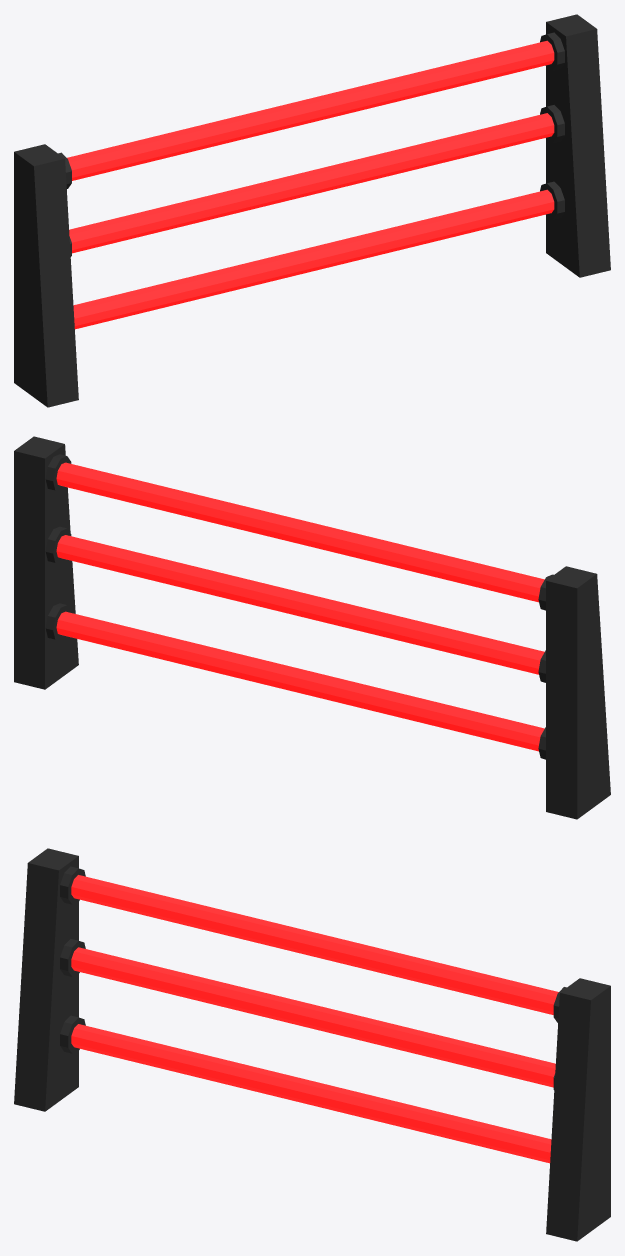
The model's file is LazerFence2.fbx.
3 views of the same model, one above another, from view 1: azimuth 30°, elevation 25°; view 2: azimuth 150°, elevation 25°; view 3: azimuth 330°, elevation 25° (orthographic).
Parts seen in each view (by area): view 1: Cube.004, Cube.003, Cylinder, Cylinder.006, Cylinder.001; view 2: Cube.004, Cylinder.006, Cylinder, Cylinder.001, Cube.003; view 3: Cube.003, Cube.004, Cylinder, Cylinder.006, Cylinder.001, Cylinder.004, Cylinder.005, Cylinder.008.
Part boxes in pixels (left/top/right/bottom): Cube.004: left=14, top=144, right=78, bottom=407; Cube.003: left=546, top=14, right=610, bottom=277; Cylinder: left=67, top=40, right=554, bottom=180; Cylinder.006: left=69, top=113, right=554, bottom=253; Cylinder.001: left=73, top=189, right=554, bottom=329; Cube.004: left=546, top=566, right=610, bottom=819; Cylinder.006: left=56, top=535, right=544, bottom=674; Cylinder: left=56, top=462, right=544, bottom=602; Cylinder.001: left=56, top=611, right=544, bottom=751; Cube.003: left=14, top=436, right=78, bottom=689; Cube.003: left=546, top=978, right=610, bottom=1241; Cube.004: left=14, top=848, right=78, bottom=1111; Cylinder: left=71, top=875, right=558, bottom=1014; Cylinder.006: left=71, top=947, right=555, bottom=1087; Cylinder.001: left=71, top=1024, right=551, bottom=1163; Cylinder.004: left=60, top=866, right=85, bottom=904; Cylinder.005: left=60, top=1015, right=85, bottom=1053; Cylinder.008: left=60, top=939, right=85, bottom=976.
Bounding box in the file's own units: 1.99 × 0.7821 × 0.2071.
